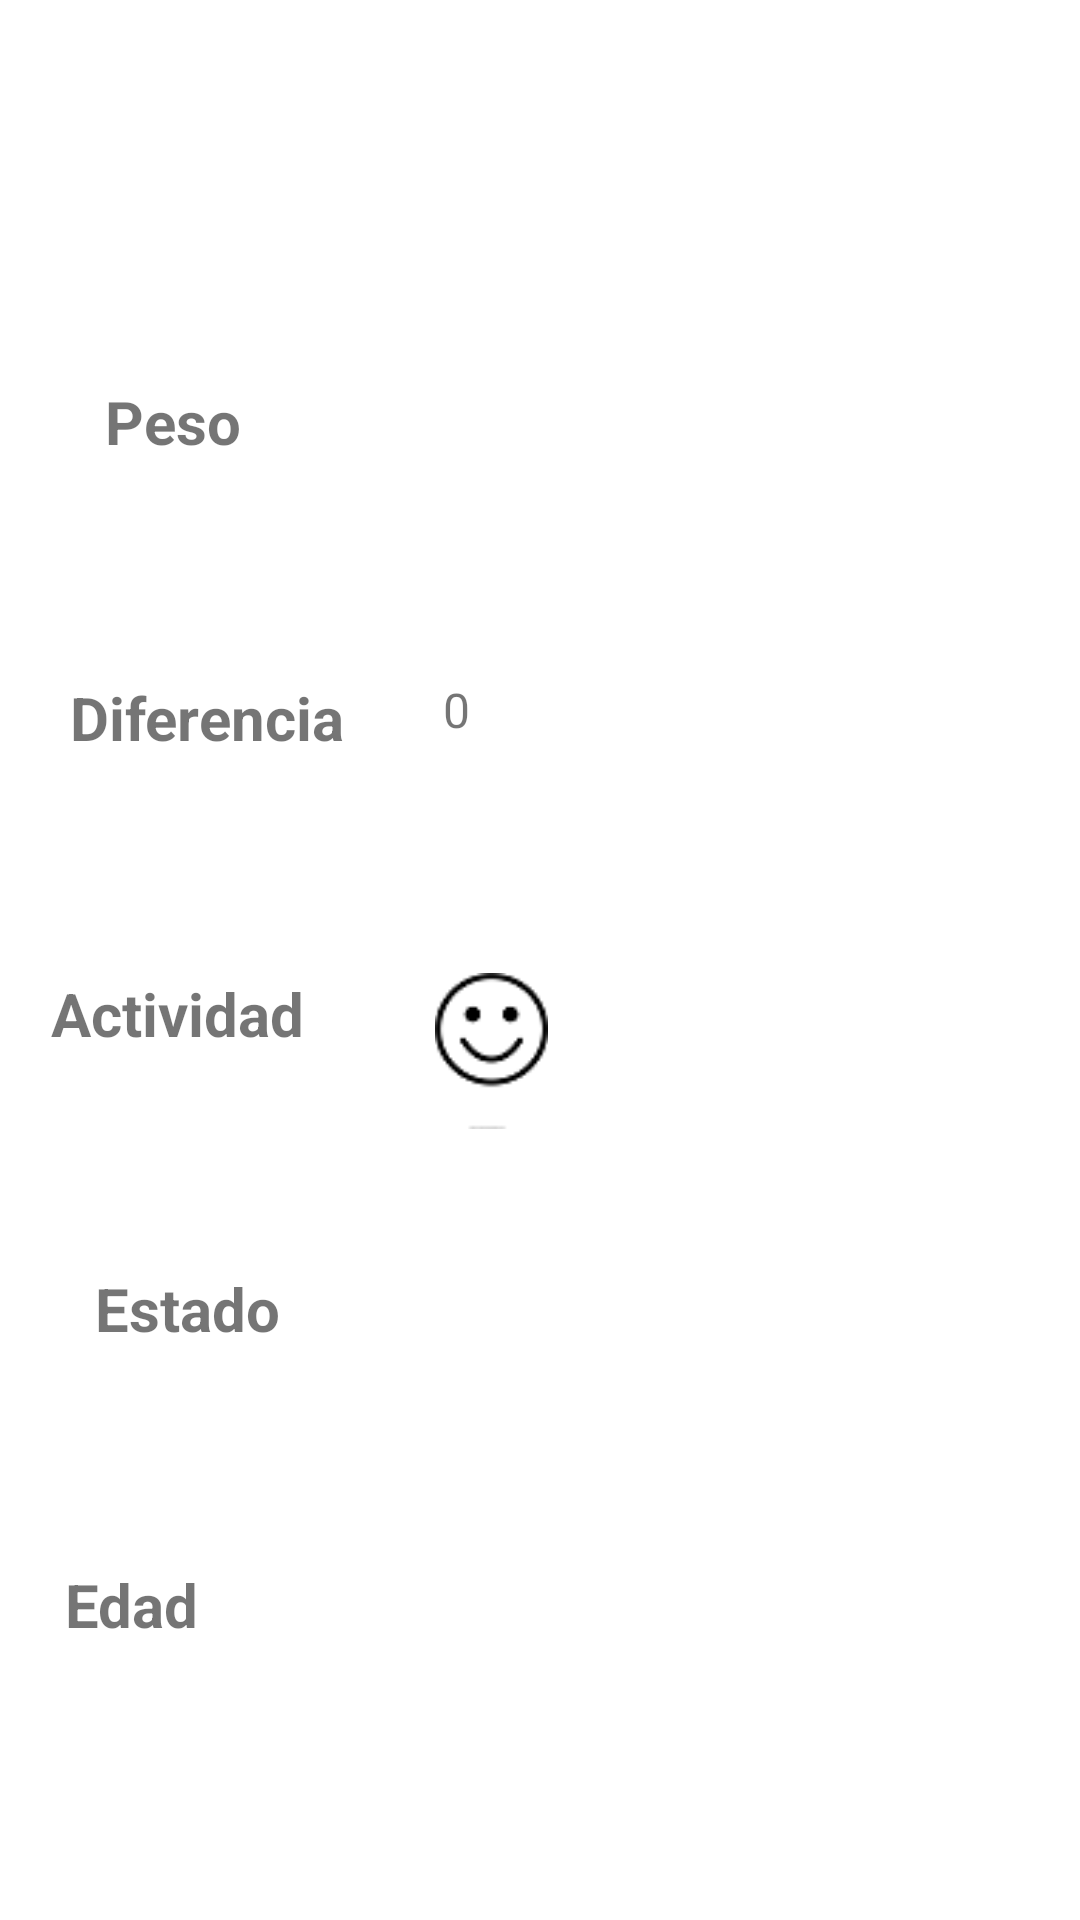

Named icons in this screenshot (1080 × 1920) and their centers, point (x, y):
cara feliz: point (491, 1051)
